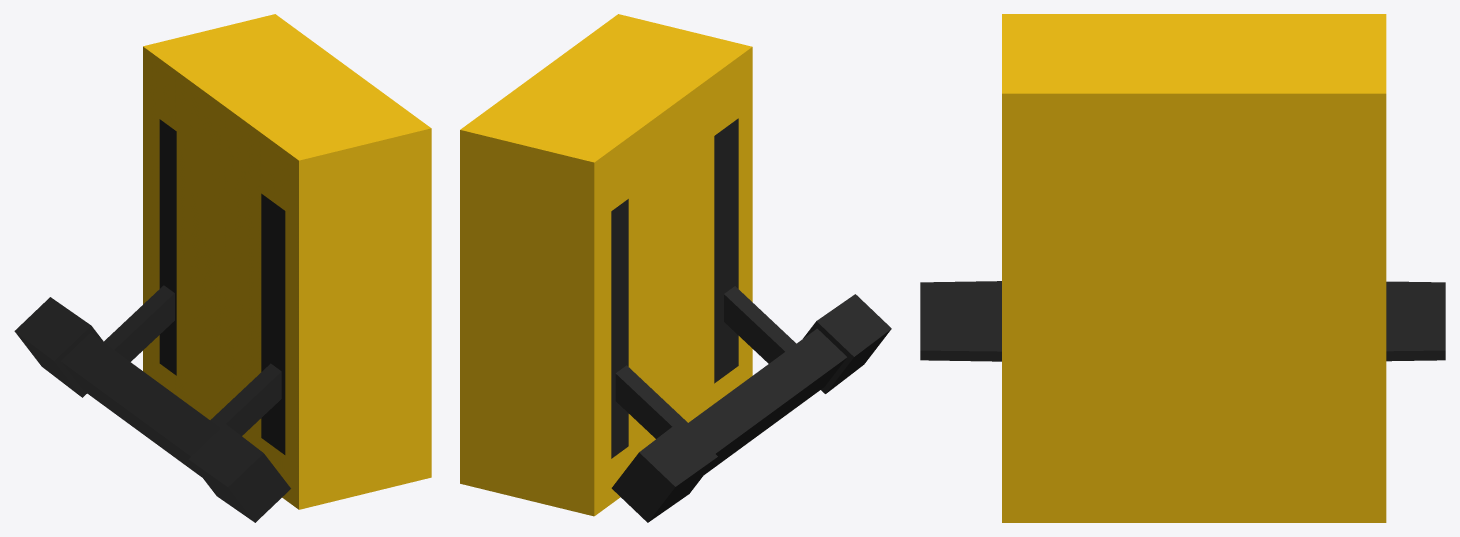
File: Lever2.obj
3 renders of one model, left to right at view 1: azimuth 30°, elevation 25°; view 2: azimuth 150°, elevation 25°; view 3: azimuth 270°, elevation 25°, orthographic. The views are drawn at different scales.
Parts seen in each view (by area): view 1: Base, Lever; view 2: Base, Lever; view 3: Base, Lever.
Part boxes in pixels (x1,y1,x2,y2): Base: [143, 14, 431, 509]; Lever: [14, 285, 290, 522]; Base: [460, 14, 752, 516]; Lever: [611, 286, 891, 522]; Base: [1002, 14, 1386, 522]; Lever: [920, 281, 1445, 361].
Size of the model in its own units: 0.6335 by 0.8886 by 0.9849.
3 materials, 3 textured.
